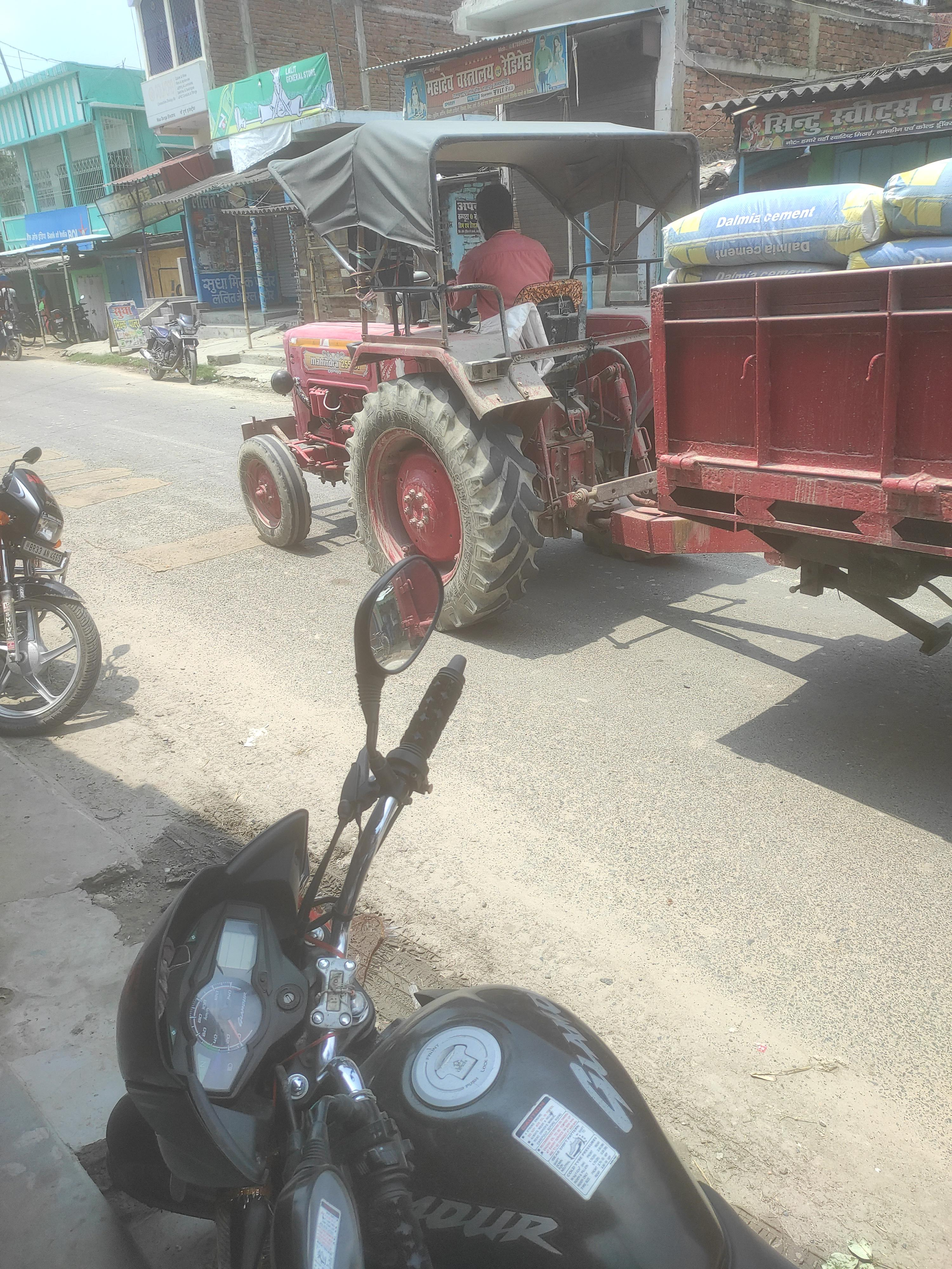Non-emergency: (125, 78, 952, 668), (201, 199, 952, 689)
